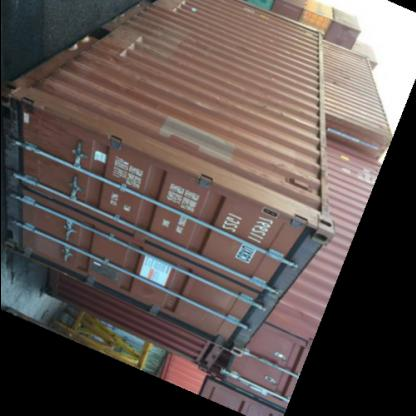Damage: (3, 89, 40, 140), (118, 32, 152, 59), (169, 0, 203, 20)
